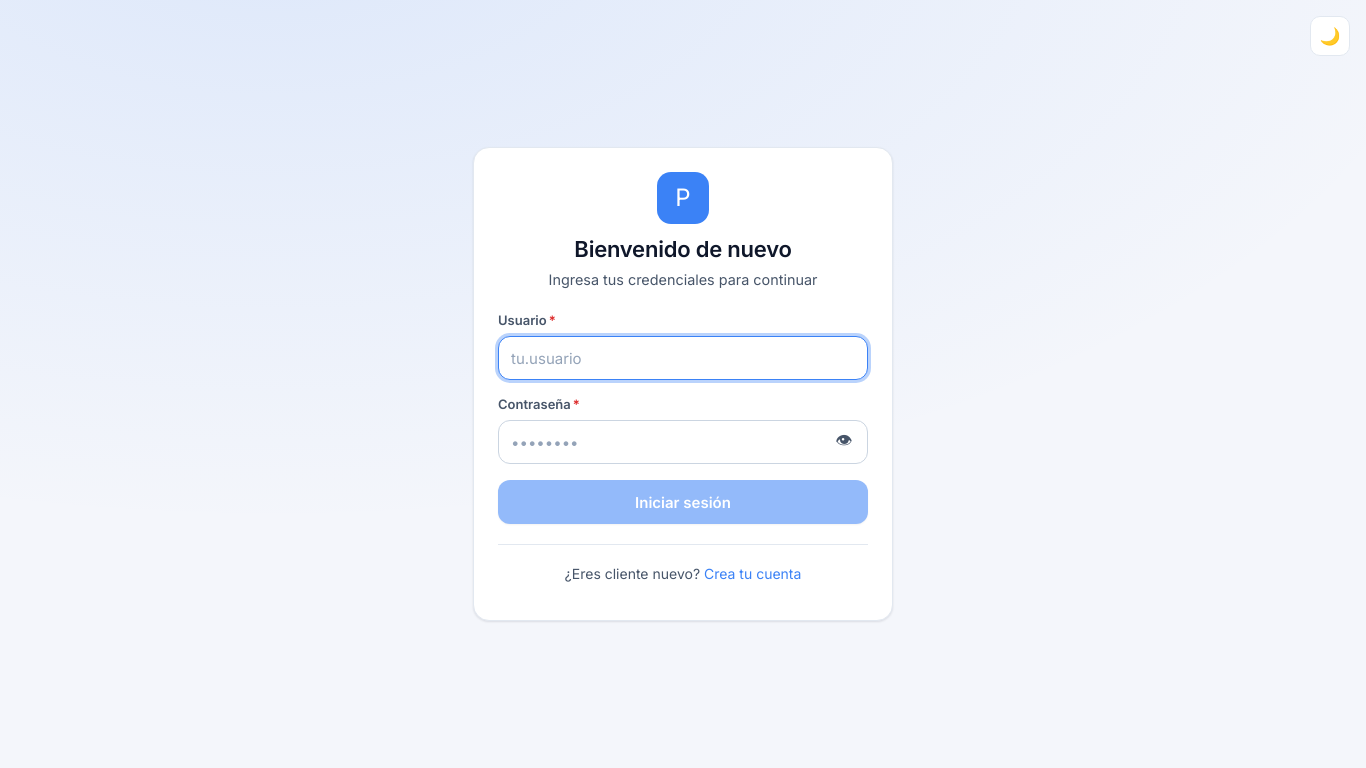
Scenario: LoginPage › muestra mensaje genérico ante error no-Api
The image size is (1366, 768).
Step 1. Type "x" into the field labelled "Usuario*" → (683, 358), box [498,336,868,380]
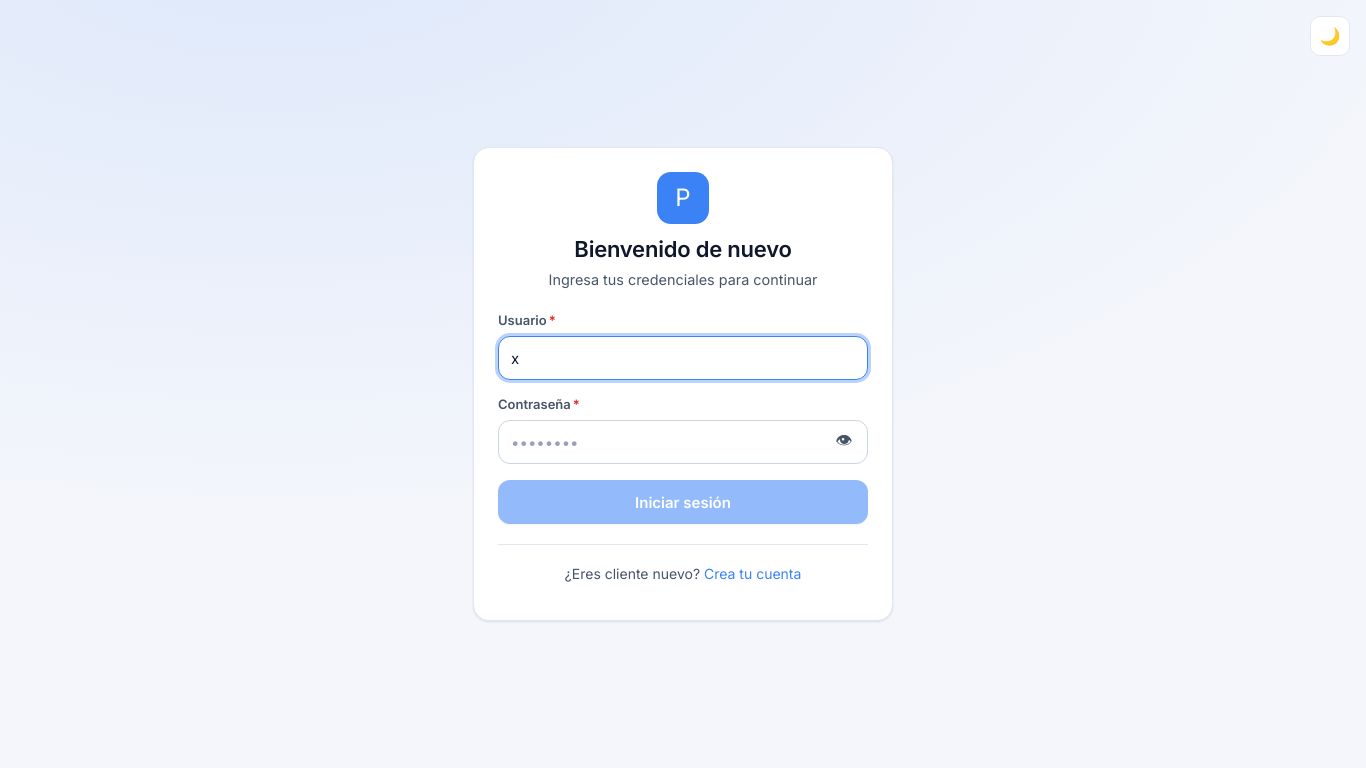
Step 2. Type "y" into the password field labelled "Contraseña*" → (683, 442), box [498,420,868,464]
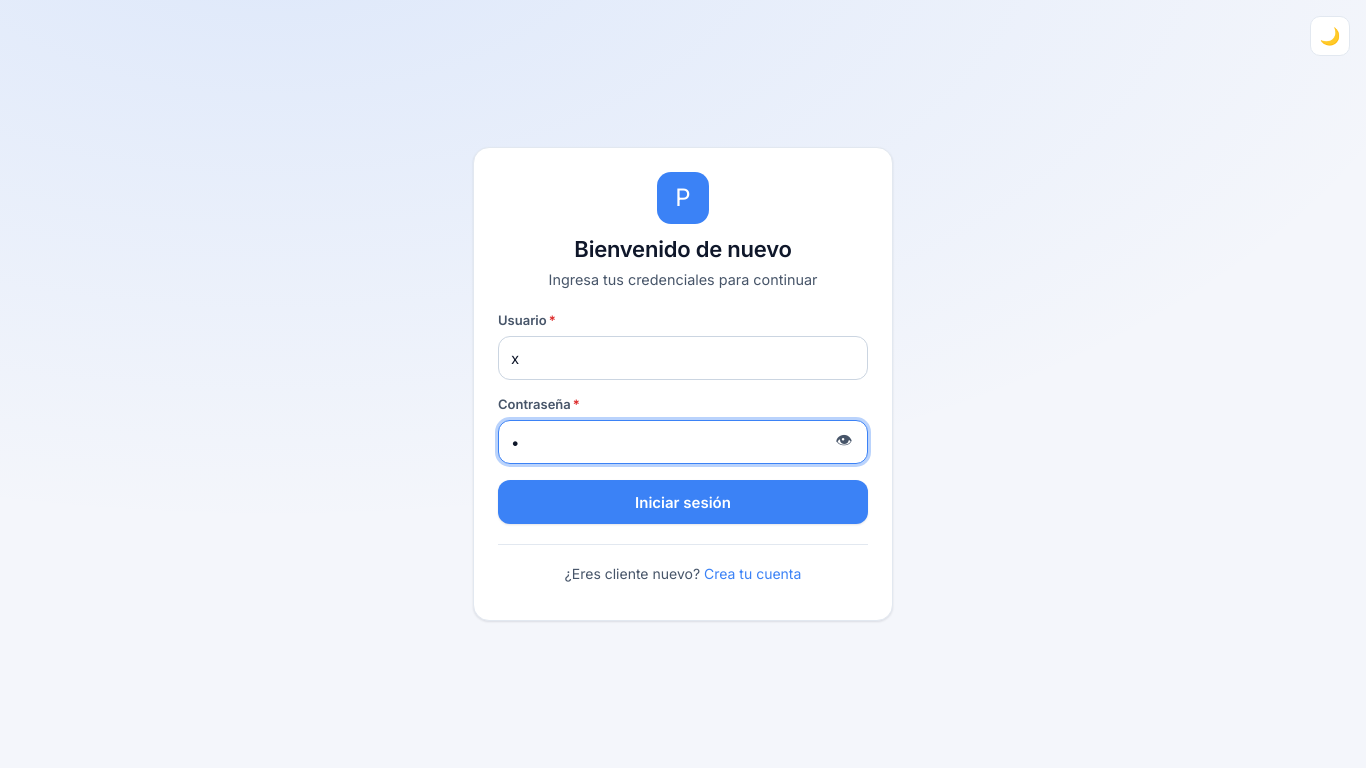
Step 3. Click the button "Iniciar sesión" → (683, 502), box [498,480,868,524]
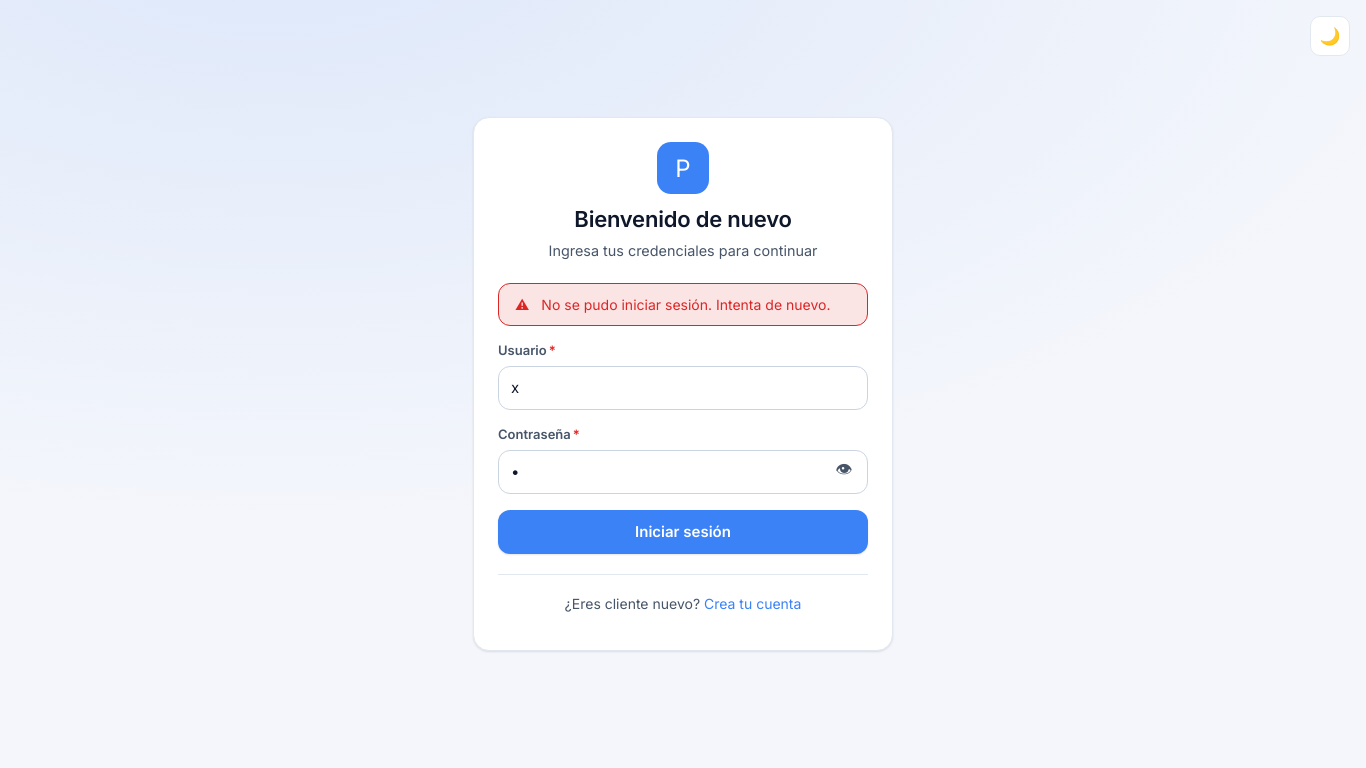
expect the message shows "No se pudo iniciar sesión": met, box [541,296,830,313]
